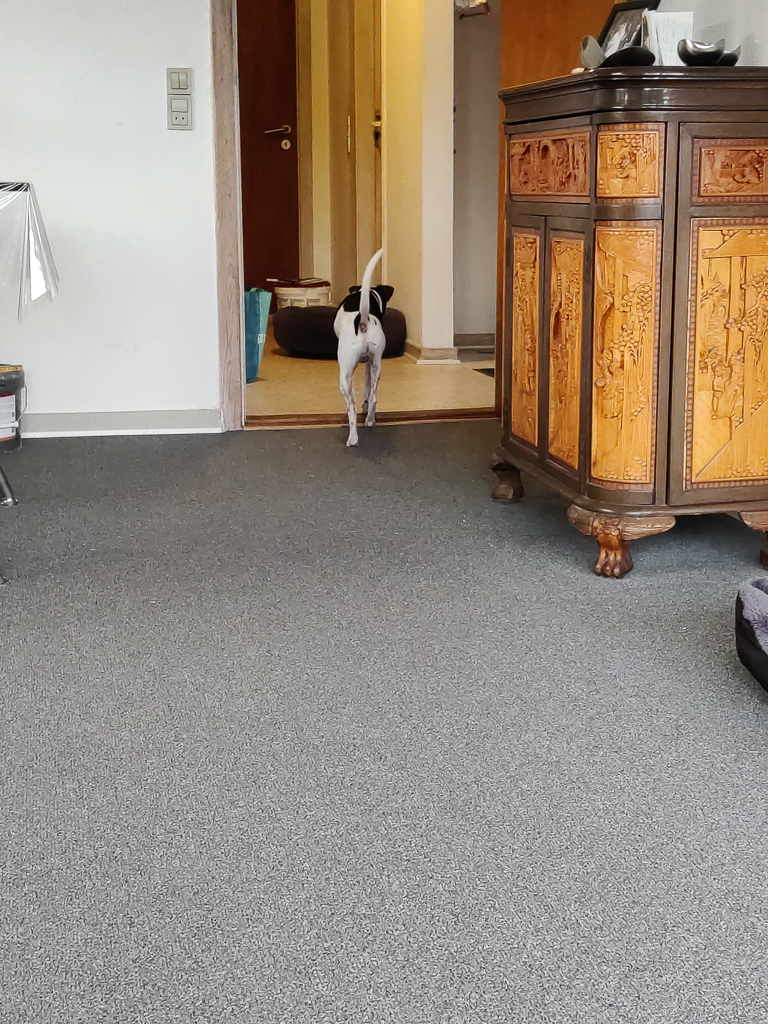Dog: (312, 243, 421, 456)
